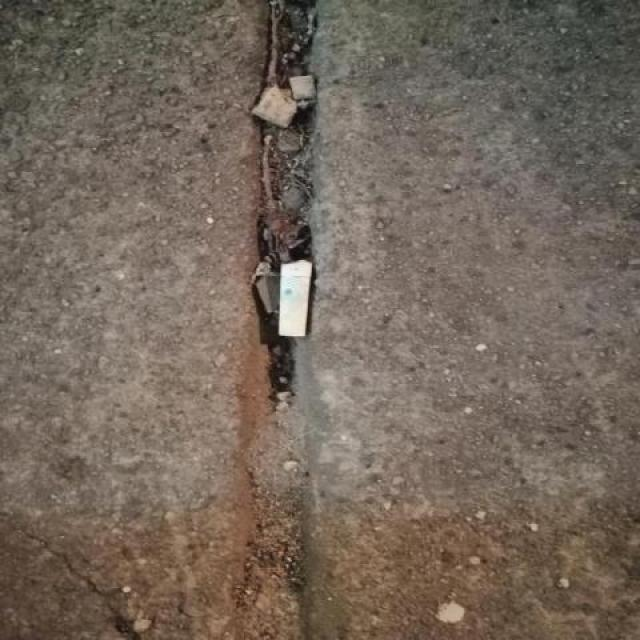non-organic waste: (275, 253, 314, 348)
